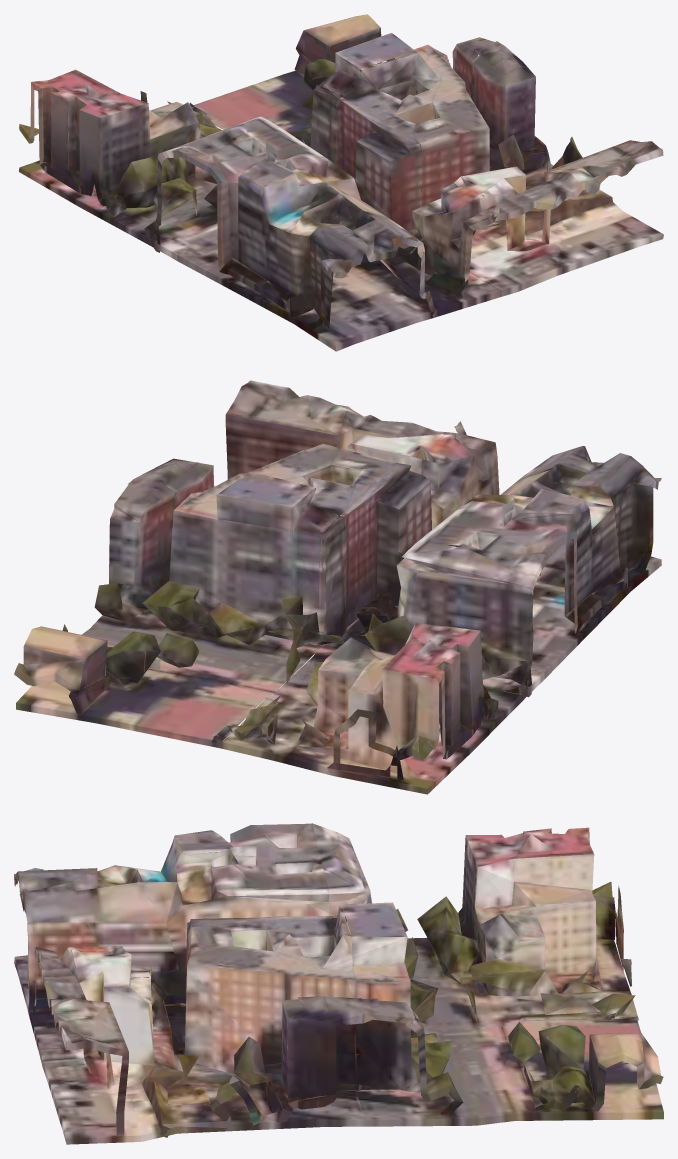
The picture shows the model from 3 angles, top to bottom: view 1: azimuth 30°, elevation 25°; view 2: azimuth 150°, elevation 25°; view 3: azimuth 270°, elevation 25°; orthographic projection. The views are drawn at different scales.
Visible parts, largest first — view 1: Mesh_0; view 2: Mesh_0; view 3: Mesh_0.
Boxes of the visible parts, left/top/right/bottom form: Mesh_0: left=19, top=14, right=663, bottom=351; Mesh_0: left=14, top=380, right=661, bottom=794; Mesh_0: left=14, top=823, right=663, bottom=1144.
Size of the model in its own units: 135 by 43.87 by 165.
1 material, 1 textured.
